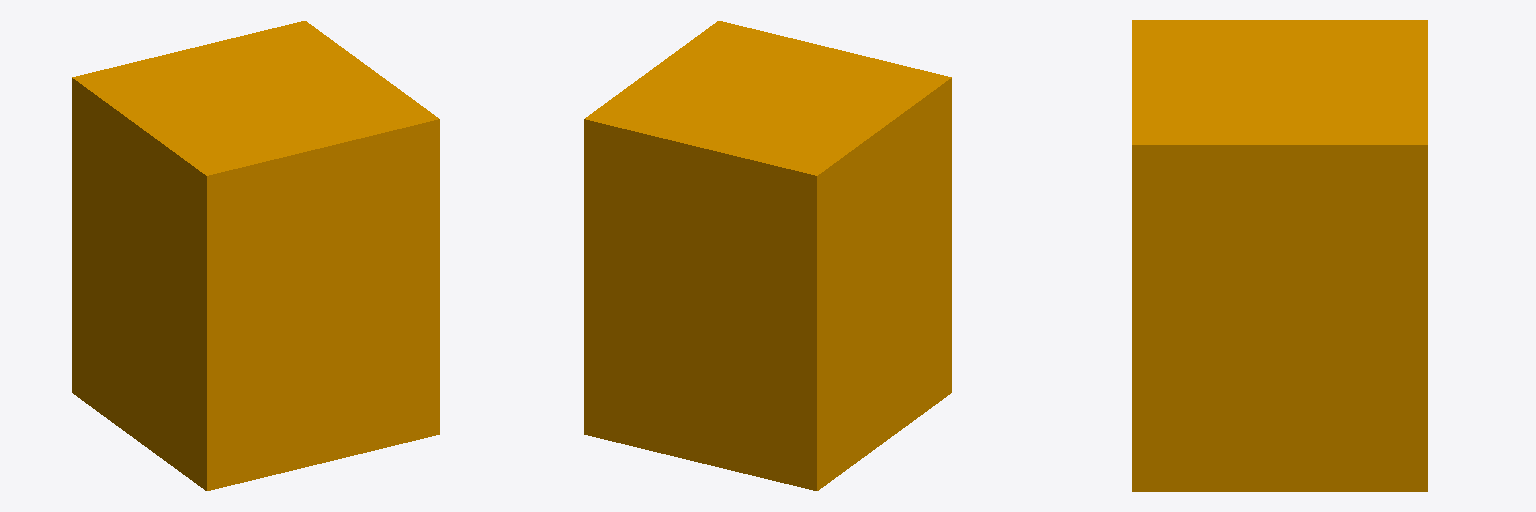
URDF robot description (miranda_underact_2v2_cuboid_small):
<?xml version="1.0" ?>
<robot name="miranda_underact_2v2_cuboid_small">

    <link name="miranda_underact_2v2_cuboid_small">
        <visual>
            <origin rpy="1.5707963267948966 0 0" xyz="0 0 0"/>
            <geometry>
                <mesh filename="obj_files/miranda_underact_2v2_cuboid_small.obj" scale="1 1 1"/>
            </geometry>
        </visual>
        <collision>
            <geometry>
                <mesh filename="obj_files/miranda_underact_2v2_cuboid_small_collision.obj" scale="1 1 1"/>
            </geometry>
        </collision>
    </link>

</robot>

--- Render facts (derived) ---
Views: 3 orthographic renders of the robot side by side, from view 1: azimuth 30°, elevation 25°; view 2: azimuth 150°, elevation 25°; view 3: azimuth 270°, elevation 25°.
Model miranda_underact_2v2_cuboid_small with 1 links and 0 joints (none), rooted at miranda_underact_2v2_cuboid_small, posed all joints at 0.
Visible links, largest first — view 1: miranda_underact_2v2_cuboid_small; view 2: miranda_underact_2v2_cuboid_small; view 3: miranda_underact_2v2_cuboid_small.
Link boxes in pixels (x1,y1,x2,y2): miranda_underact_2v2_cuboid_small: (72,21,439,490); miranda_underact_2v2_cuboid_small: (584,21,951,490); miranda_underact_2v2_cuboid_small: (1132,20,1427,491).
Bounding box of the posed robot: 0.0743 × 0.0743 × 0.096 m (x, y, z).
1 mesh visuals loaded from 1 distinct referenced files (1 OBJ).
